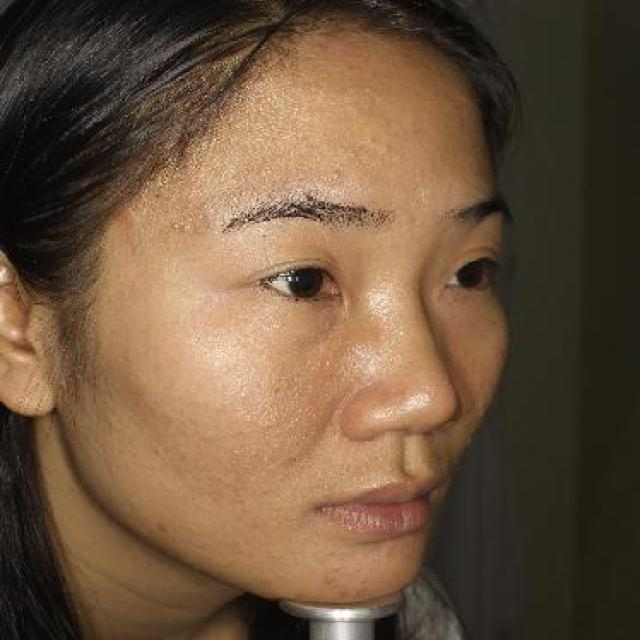whiteheads: (168, 217, 195, 235), (327, 166, 347, 182), (267, 318, 289, 331), (329, 558, 349, 572), (349, 588, 370, 598), (291, 555, 305, 568), (352, 560, 363, 575), (269, 548, 279, 560)
